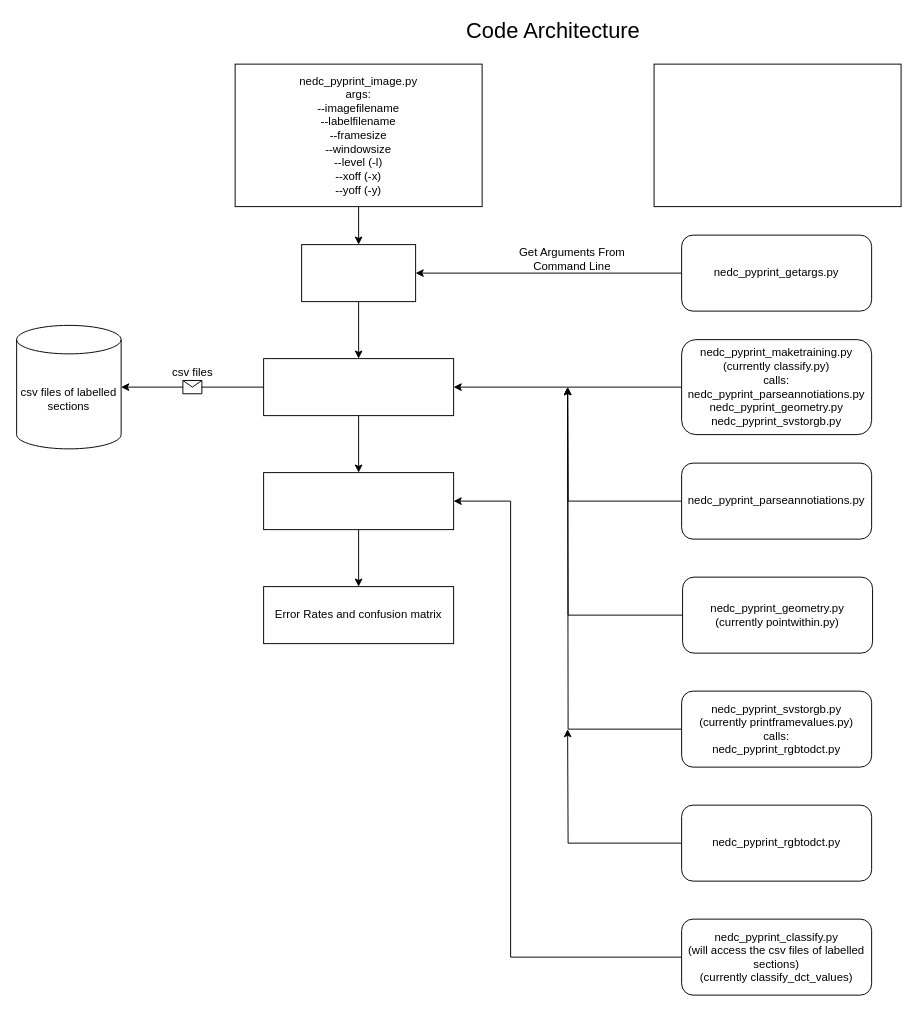
This 918x1012 diagram has some shape labels left out. Each missing label, with the box of its shape:
Call classify function: (301, 244, 416, 302)
Call: nedc_pyprint_classify.py: (263, 472, 454, 530)
Call: nedc_pyprint_maketraining.py: (263, 358, 454, 416)
Function Library: (653, 63, 901, 207)
